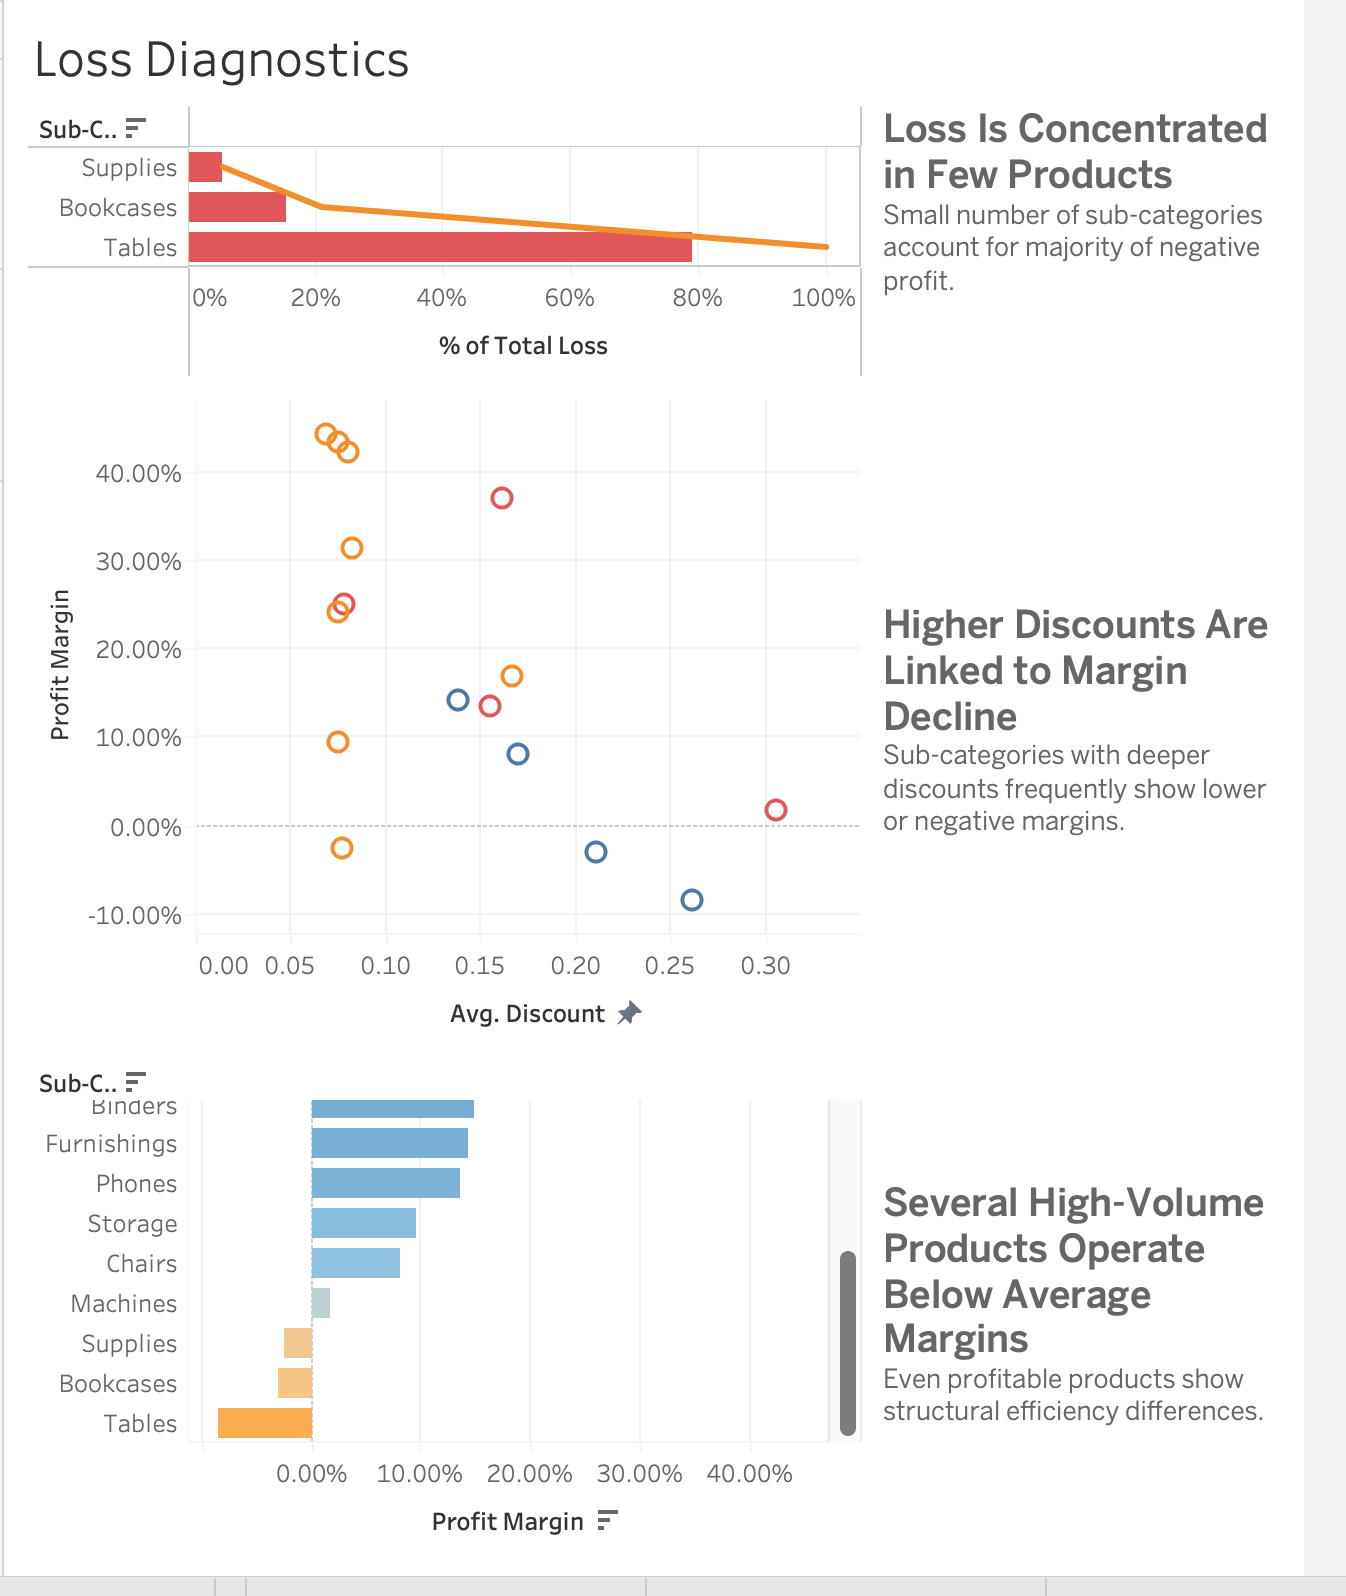

Layout of this report page (visuals, bound fields, positions):
{"tool":"tableau","page":{"name":"Loss Diagnostics","canvas":[650,860],"ordinal":1},"visuals":[{"type":"title","box":[8,10.1,425,51.6]},{"type":"text","box":[433,10.1,209,204.5]},{"type":"worksheet","title":"Loss Conecentration by Sub-Category","mark":"Automatic","rows":["Sub-Category"],"box":[8,61.7,425,185.1]},{"type":"text","box":[433,214.6,209,359]},{"type":"worksheet","title":"Discount Impact on Profit Margin","mark":"Automatic","rows":["Calculation_0857987247722496"],"cols":["Discount"],"box":[8,246.8,425,283.3]},{"type":"worksheet","title":"Profit Margin by Sub-Category","mark":"Automatic","rows":["Sub-Category"],"cols":["Calculation_0857987247722496"],"box":[8,530.1,425,319.8]},{"type":"text","box":[433,573.6,209,276.4]}]}

Visuals, with their boxes on the page's 650x860 design canvas (x1, y1, x2, y2). These are canvas units, not pixel positions in the 1346x1596 screenshot, which may show the page scaled, cropped or inside an application window:
title: <bbox>8, 10, 433, 62</bbox>
text: <bbox>433, 10, 642, 215</bbox>
"Loss Conecentration by Sub-Category" worksheet: <bbox>8, 62, 433, 247</bbox>
text: <bbox>433, 215, 642, 574</bbox>
"Discount Impact on Profit Margin" worksheet: <bbox>8, 247, 433, 530</bbox>
"Profit Margin by Sub-Category" worksheet: <bbox>8, 530, 433, 850</bbox>
text: <bbox>433, 574, 642, 850</bbox>
